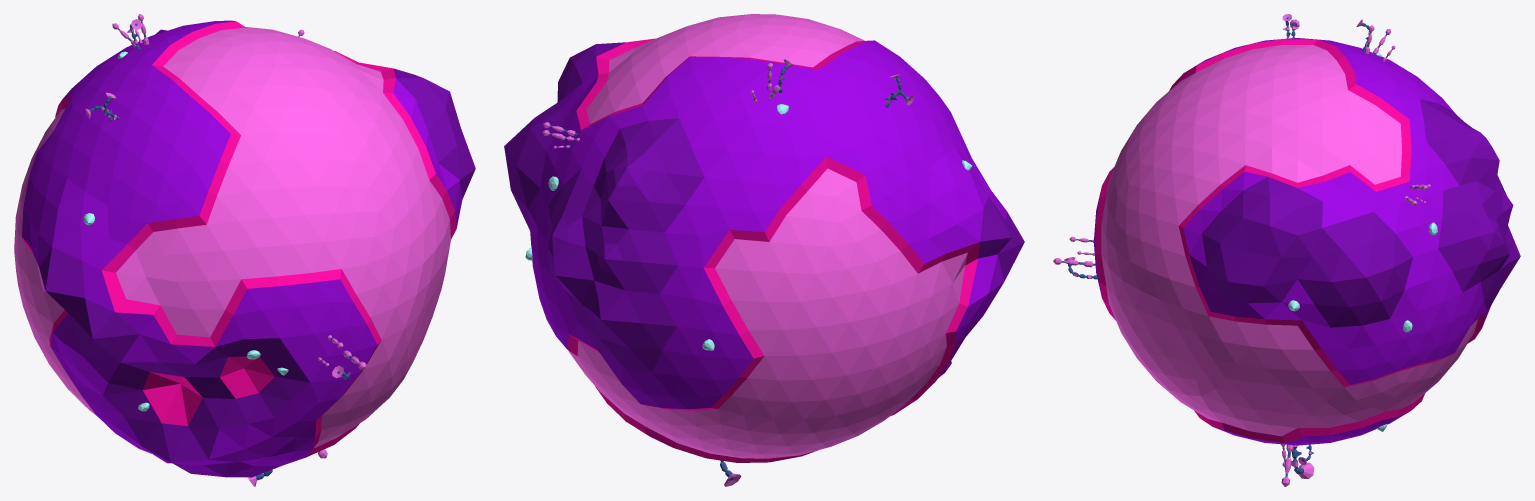
The model's file is ExportedBlenderFBXFile.fbx.
3 renders of one model, left to right at view 1: azimuth 30°, elevation 25°; view 2: azimuth 150°, elevation 25°; view 3: azimuth 270°, elevation 25°, orthographic. The views are drawn at different scales.
Parts seen in each view (by area): view 1: Main Planet; view 2: Main Planet; view 3: Main Planet.
Part boxes in pixels (<box>): Main Planet: <box>14,20,475,477</box>; Main Planet: <box>504,14,1024,462</box>; Main Planet: <box>1093,38,1520,445</box>.
Size of the model in its own units: 11.37 by 11.69 by 11.77.
